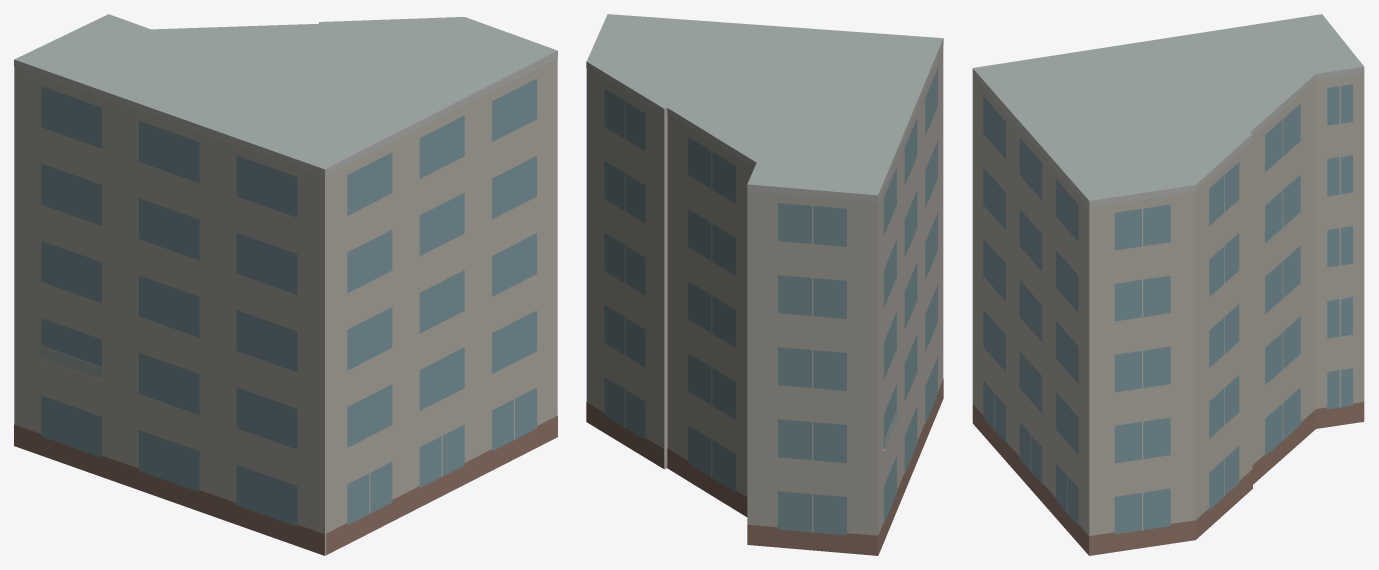
File: survey-upis-32892587.glb
3 views of the same model, side by side, from view 1: azimuth 30°, elevation 25°; view 2: azimuth 150°, elevation 25°; view 3: azimuth 270°, elevation 25° (orthographic). The views are drawn at different scales.
Parts seen in each view (by area): view 1: survey-upis-32892587.tmp; view 2: survey-upis-32892587.tmp; view 3: survey-upis-32892587.tmp.
Boxes of the visible parts, x1,y1,x2,y2 form: survey-upis-32892587.tmp: (14, 14, 557, 555); survey-upis-32892587.tmp: (586, 14, 943, 555); survey-upis-32892587.tmp: (972, 14, 1364, 555).
Bounding box in the file's own units: 14.91 × 13.2 × 13.21.
